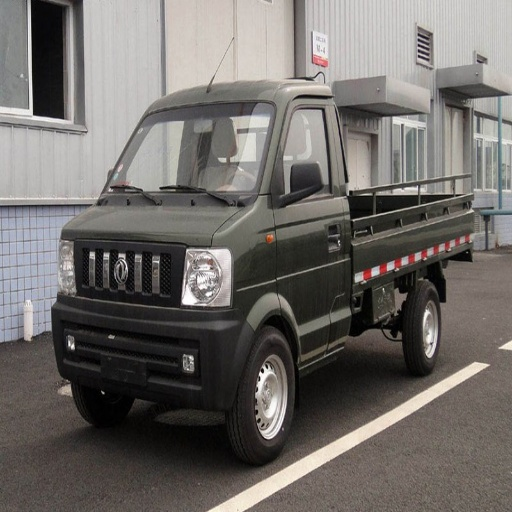front_bumper: (53, 241, 252, 396)
front_glass: (105, 105, 274, 204)
front_left_door: (269, 98, 342, 358)
trunk: (338, 232, 433, 313)
